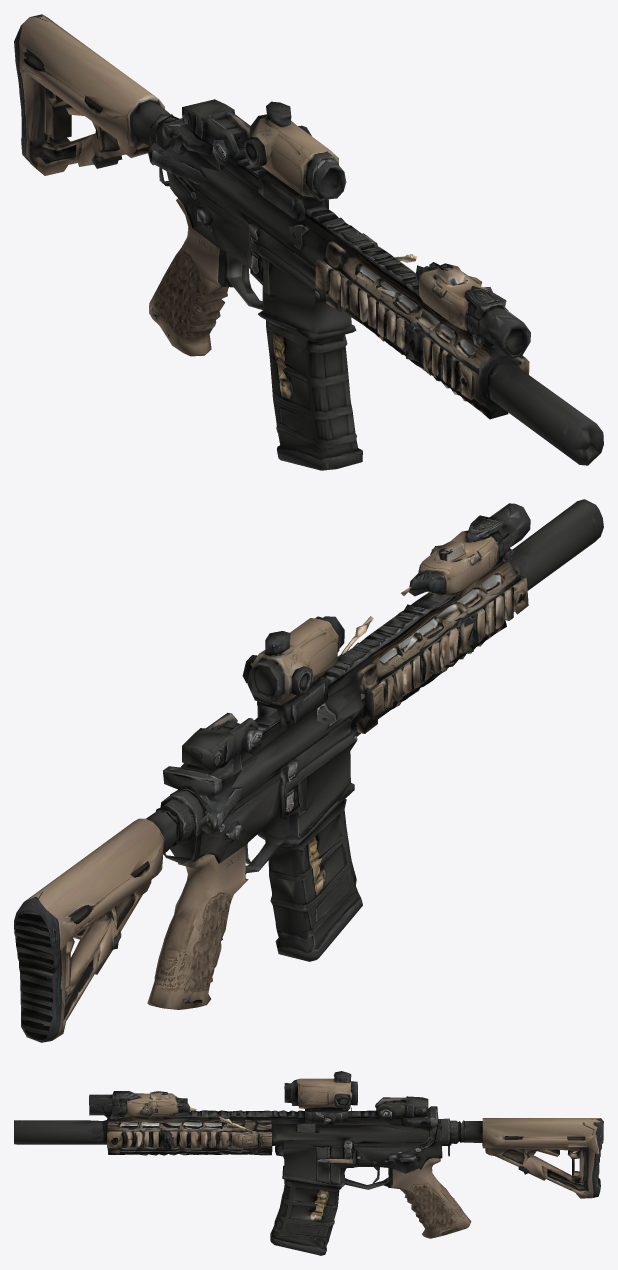
Rendered from mark18.glb.
3 renders of one model, top to bottom at view 1: azimuth 30°, elevation 25°; view 2: azimuth 150°, elevation 25°; view 3: azimuth 270°, elevation 25°, orthographic. The views are drawn at different scales.
Parts seen in each view (by area): view 1: mark18; view 2: mark18; view 3: mark18.
Boxes of the visible parts, x1,y1,x2,y2 form: mark18: (14, 14, 603, 470); mark18: (14, 499, 603, 1042); mark18: (14, 1071, 603, 1255).
Size of the model in its own units: 0.0607 by 0.2791 by 0.84.
1 material, 1 textured.
